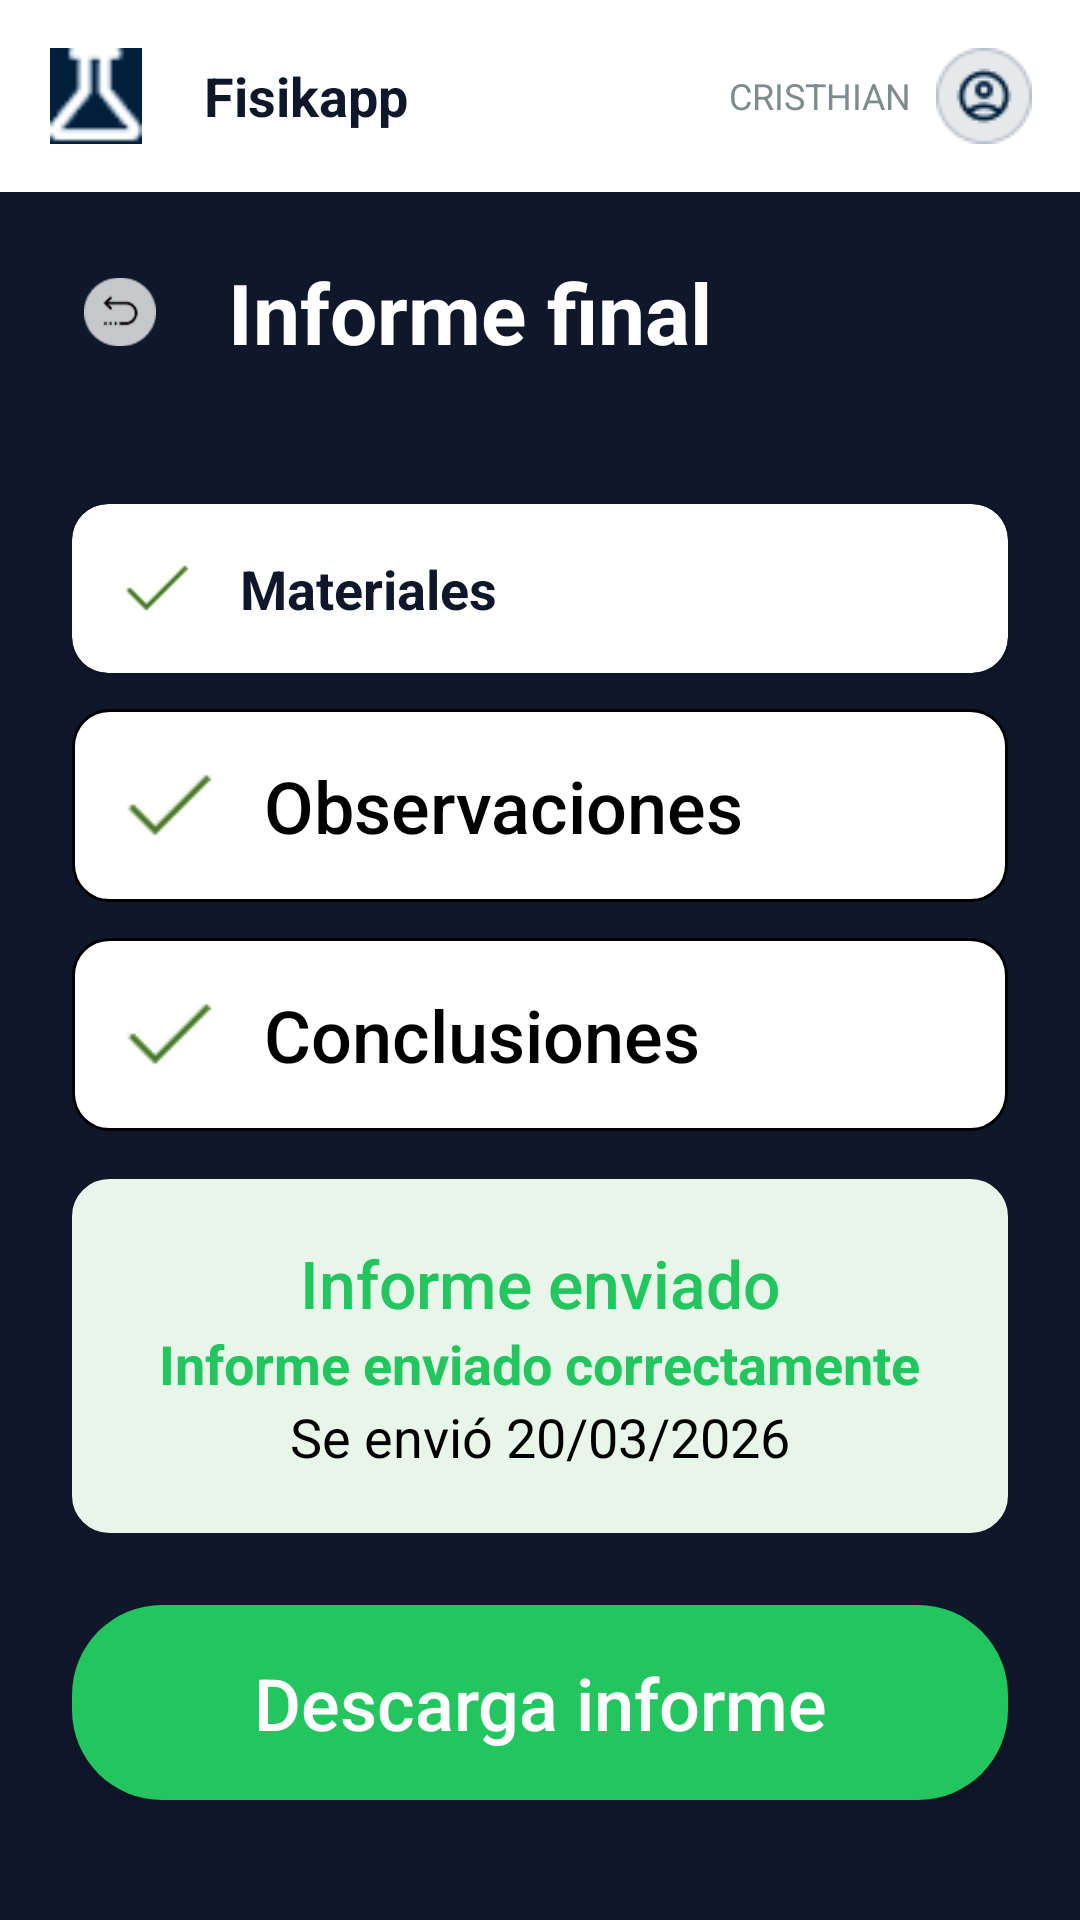

Icon click points for this 1080 × 1920 phone screenshot, format point (x, y):
chulo: point (157, 588), point (170, 805), point (170, 1034)
iconofisik: point (96, 96)
iconoretroceder: point (120, 312)
iconousuario: point (984, 96)
